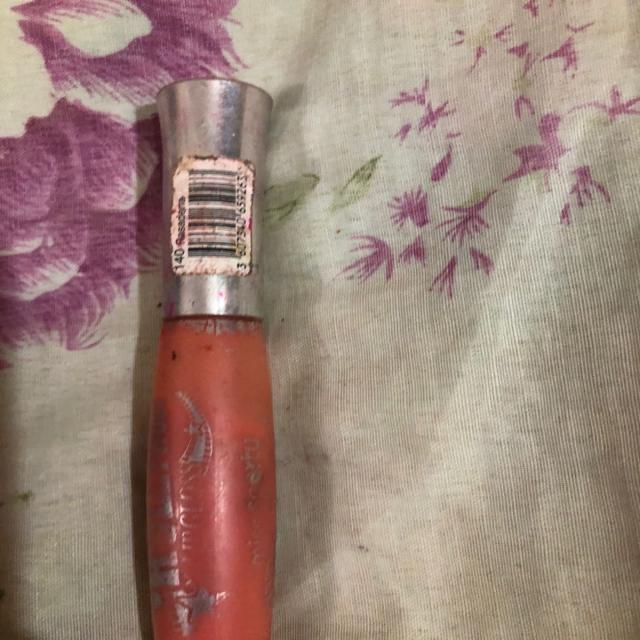lip gloss: (125, 60, 299, 640)
